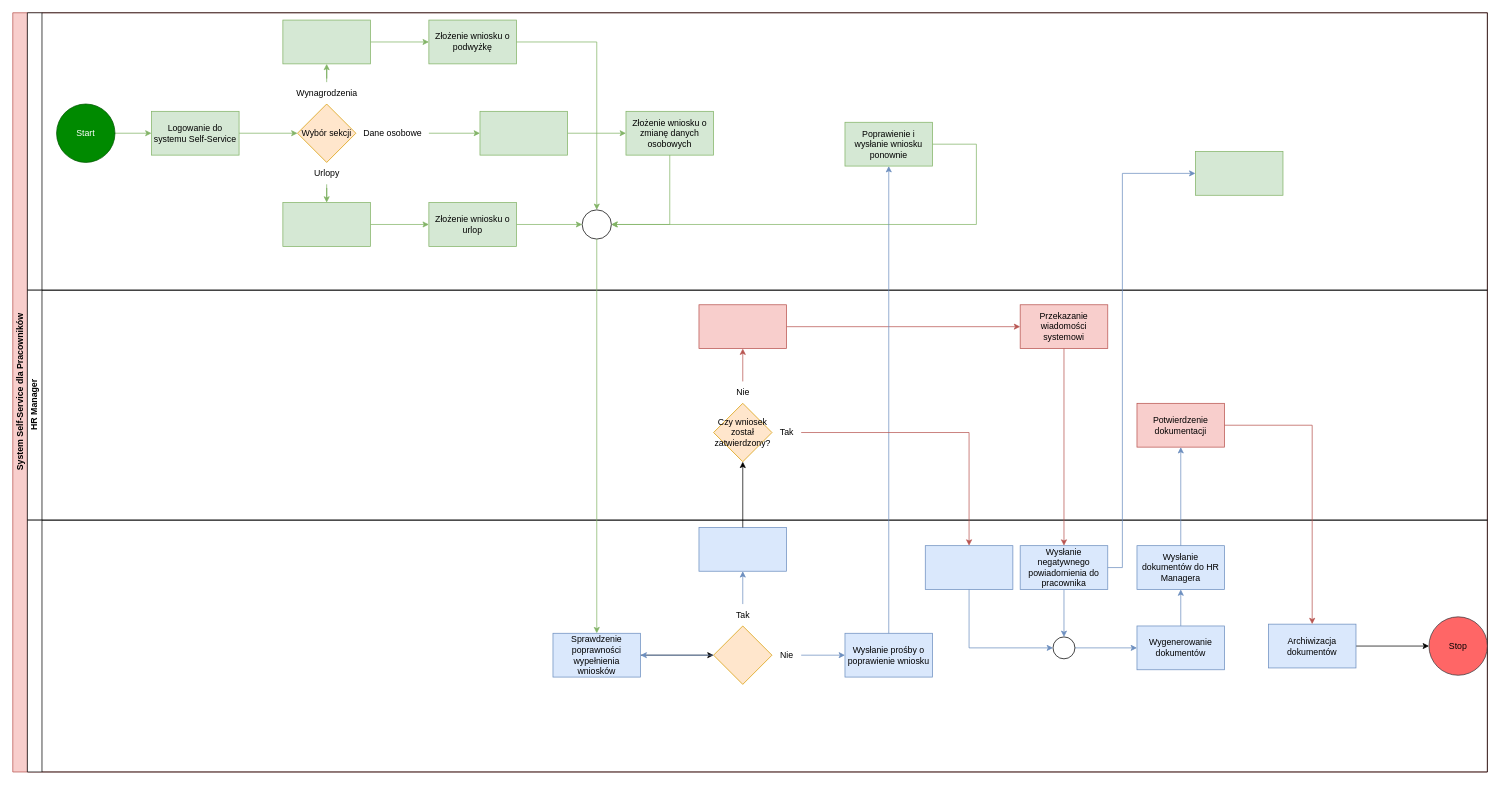
Image size: 1500x785. Some labels were removed from this diagram. Each missing label, with the box of its shape:
Czy wniosek jest poprawny?: (713, 625, 772, 684)
Napisanie wiadomości z powodem odrzucenia wniosku: (698, 304, 787, 349)
Odejście z firmy: (1195, 151, 1283, 195)
Pracownik: (27, 12, 1487, 290)
Przeglądanie danych o urlopach: (282, 202, 370, 246)
Przeglądanie danych osobowych: (479, 111, 568, 155)
Przeglądanie pasków wynagrodzeń: (282, 19, 370, 64)
System HR: (27, 519, 1487, 772)
Wysłanie powiadomienia do HR Managera: (698, 527, 787, 571)
Wysłanie powiadomienia do pracownika: (925, 545, 1013, 589)
